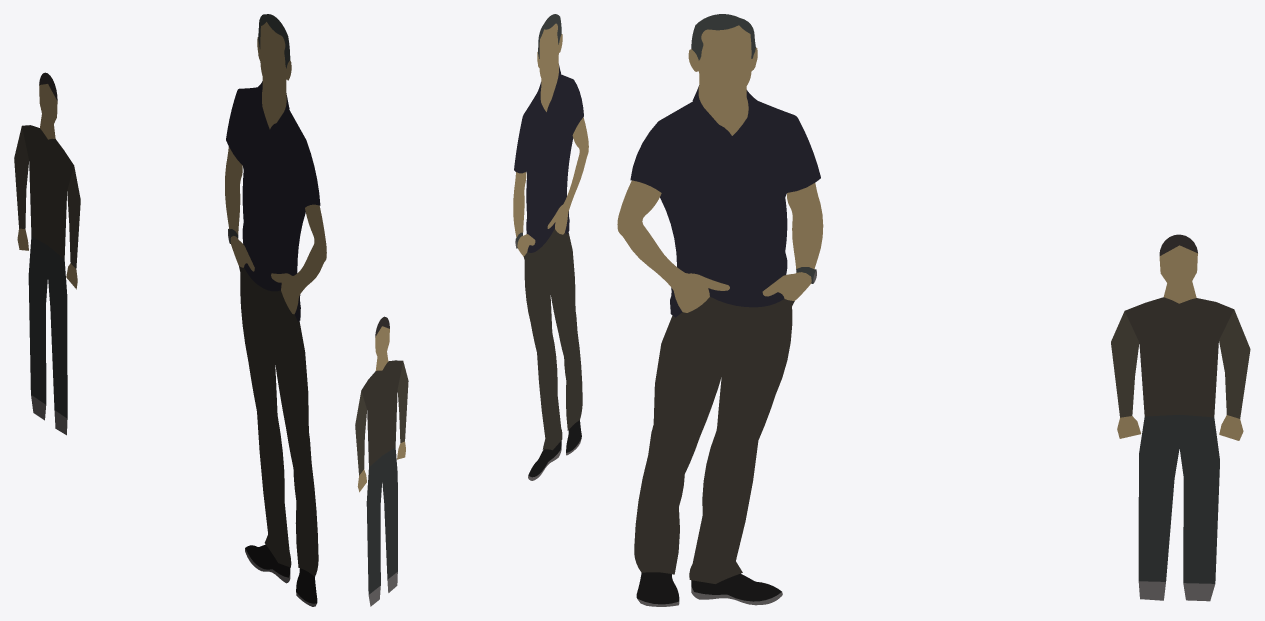
3 views of the same model, side by side, from view 1: azimuth 30°, elevation 25°; view 2: azimuth 150°, elevation 25°; view 3: azimuth 270°, elevation 25° (orthographic). The views are drawn at different scales.
Visible parts, largest first — view 1: Chris (×9), SketchUp (×5); view 2: Chris (×8), SketchUp (×5); view 3: Chris (×9), SketchUp (×5).
Part boxes in pixels (x1,y1,x2,y2): Chris (×9): [225, 14, 326, 603]; SketchUp (×5): [14, 84, 80, 418]; Chris (×8): [513, 14, 588, 477]; SketchUp (×5): [355, 326, 408, 594]; Chris (×9): [617, 14, 823, 604]; SketchUp (×5): [1111, 245, 1250, 583].
Size of the model in its own units: 1.35 by 67.31 by 69.5.
